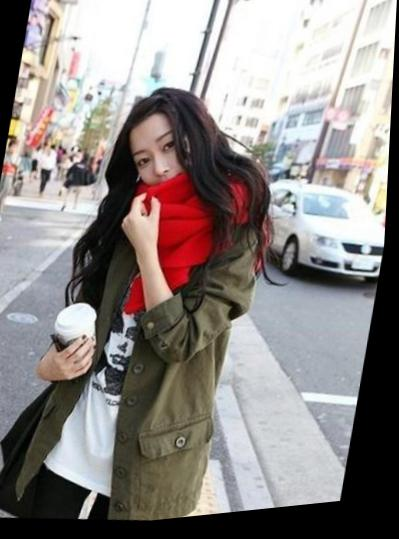WRONG: (122, 123, 202, 206)
